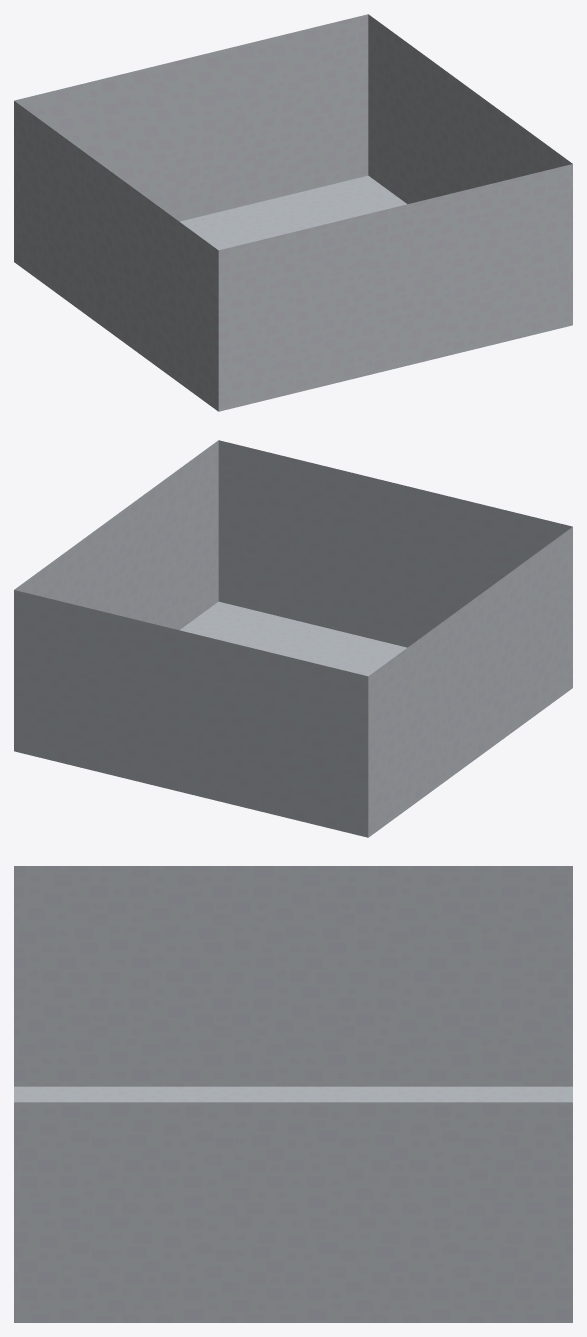
The model's file is building_s500-500_floor1.glb.
The picture shows the model from 3 angles, top to bottom: view 1: azimuth 30°, elevation 25°; view 2: azimuth 150°, elevation 25°; view 3: azimuth 270°, elevation 25°; orthographic projection. The views are drawn at different scales.
Visible parts, largest first — view 1: building_s500-500_floor1; view 2: building_s500-500_floor1; view 3: building_s500-500_floor1.
Part boxes in pixels (x1=…): building_s500-500_floor1: x1=14, y1=14, x2=572, y2=411; building_s500-500_floor1: x1=14, y1=440, x2=572, y2=837; building_s500-500_floor1: x1=14, y1=866, x2=572, y2=1322.
Size of what is drawn, in the model's own units: 7.05 by 3.05 by 7.
Materials: 3 (2 with a texture image).
